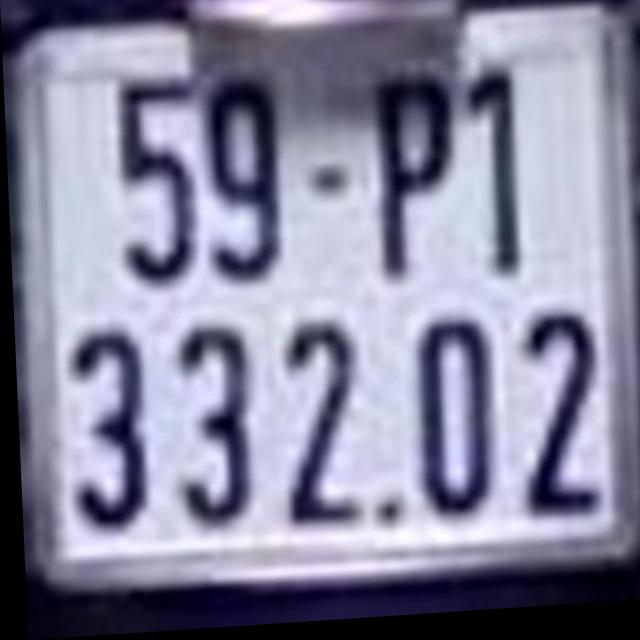0: (417, 311, 489, 524)
1: (467, 76, 526, 282)
2: (274, 307, 355, 528), (520, 312, 596, 521)
3: (60, 330, 148, 535), (177, 321, 245, 522)
5: (114, 79, 195, 284)
9: (206, 91, 283, 285)
P: (371, 77, 459, 290)
